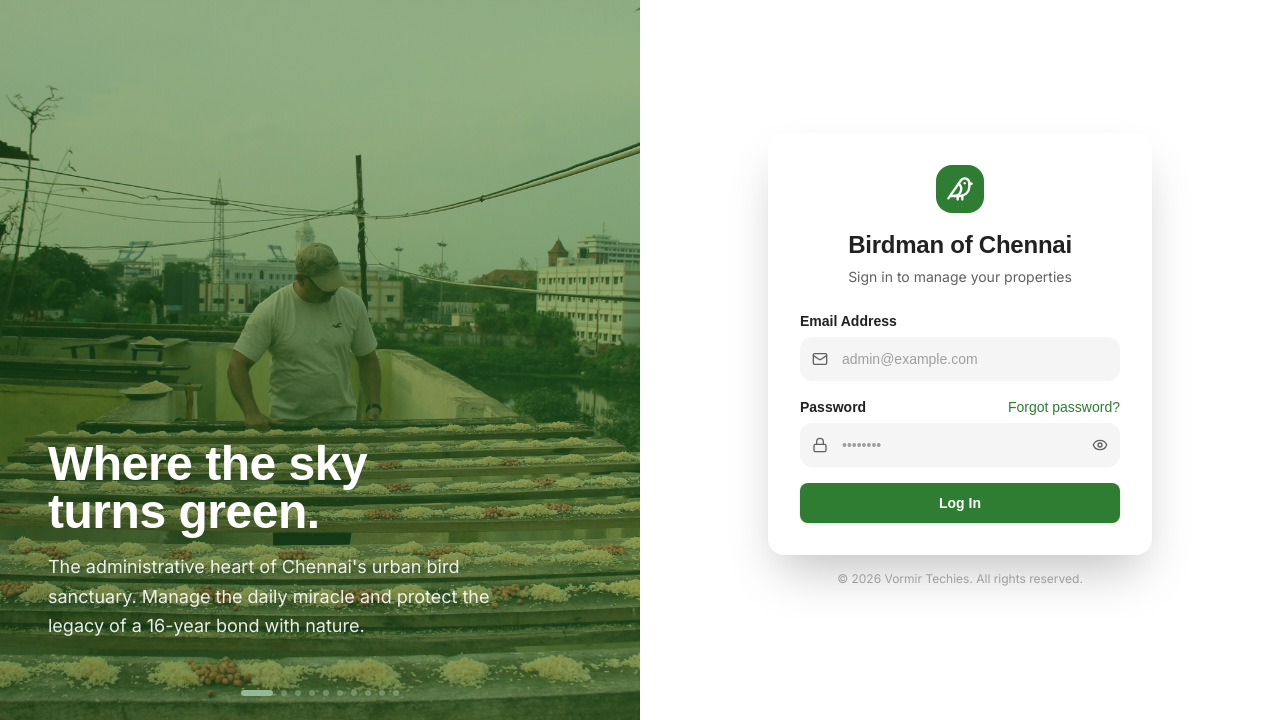
Scenario: Login Page › Forgot Password View › shows success state after sending reset email
The image size is (1280, 720).
Click the button "Forgot password?": (1064, 407) [1008,397,1120,417]
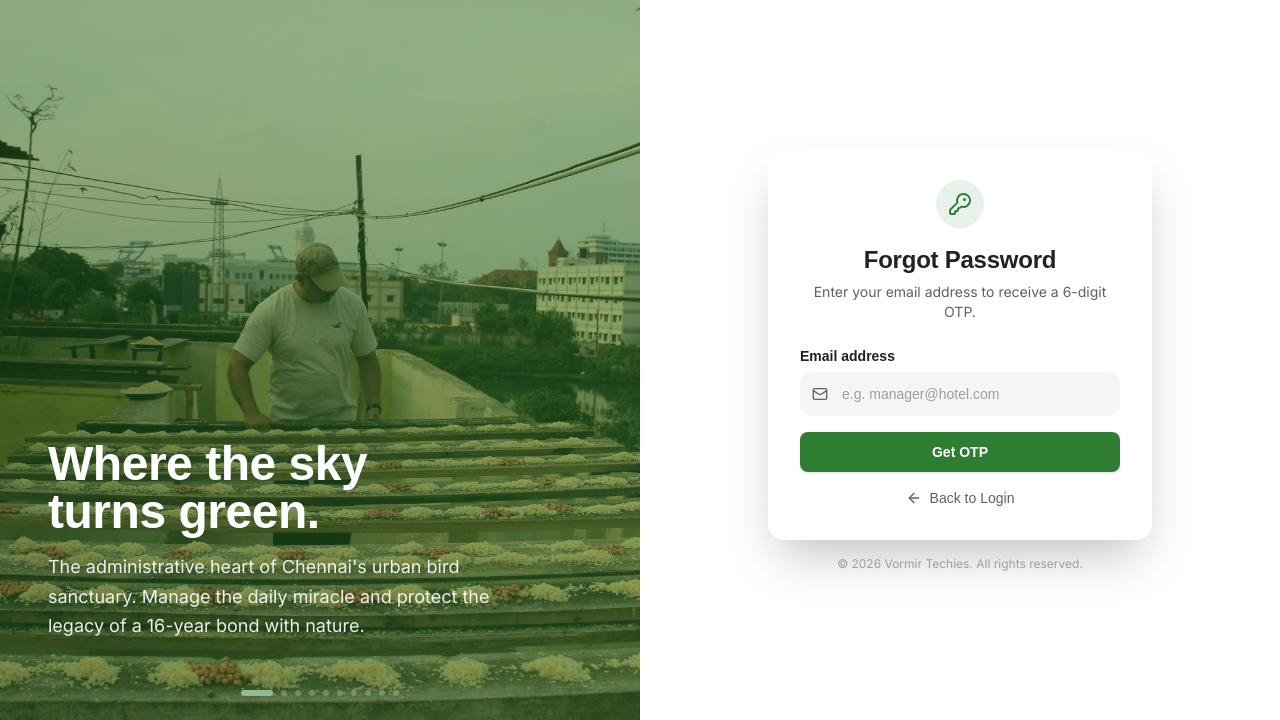
Now the heading "Forgot Password" is shown, box [864,246,1056,273]
In the field labelled "Email address": (960, 394) [800,372,1120,416], type "user@example.com"
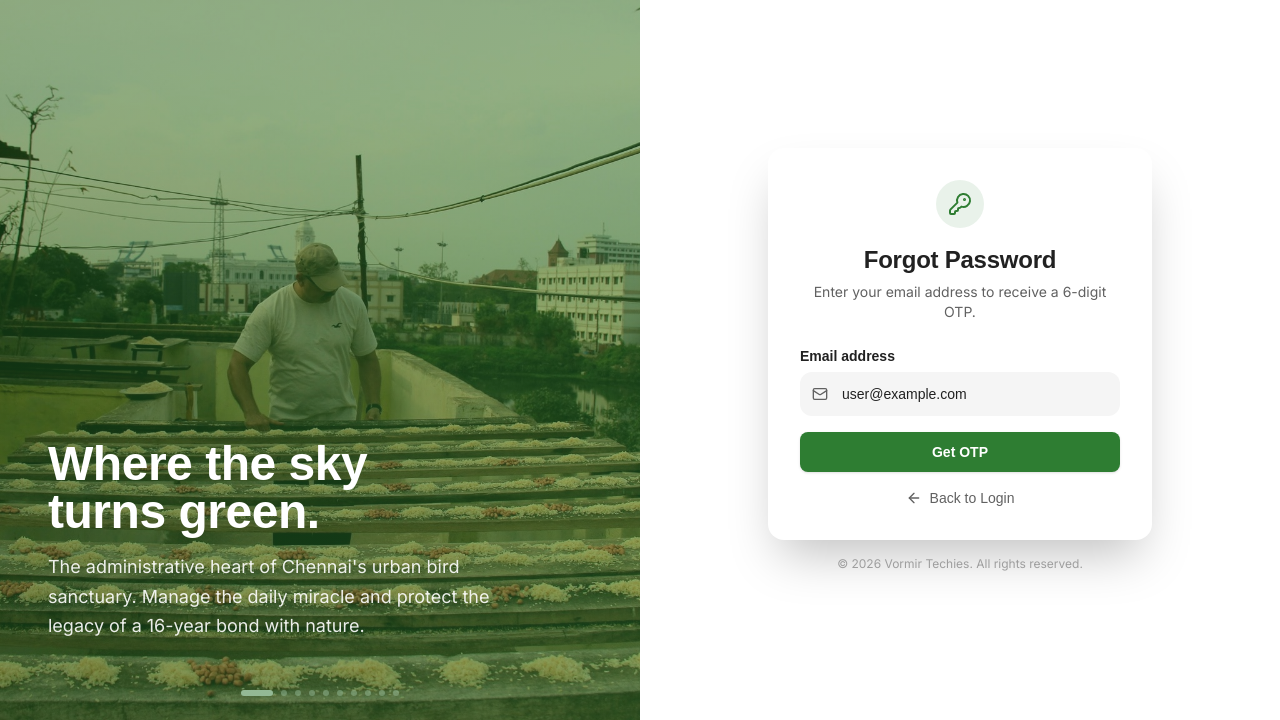
Click the button "Get OTP": (960, 452) [800,432,1120,472]
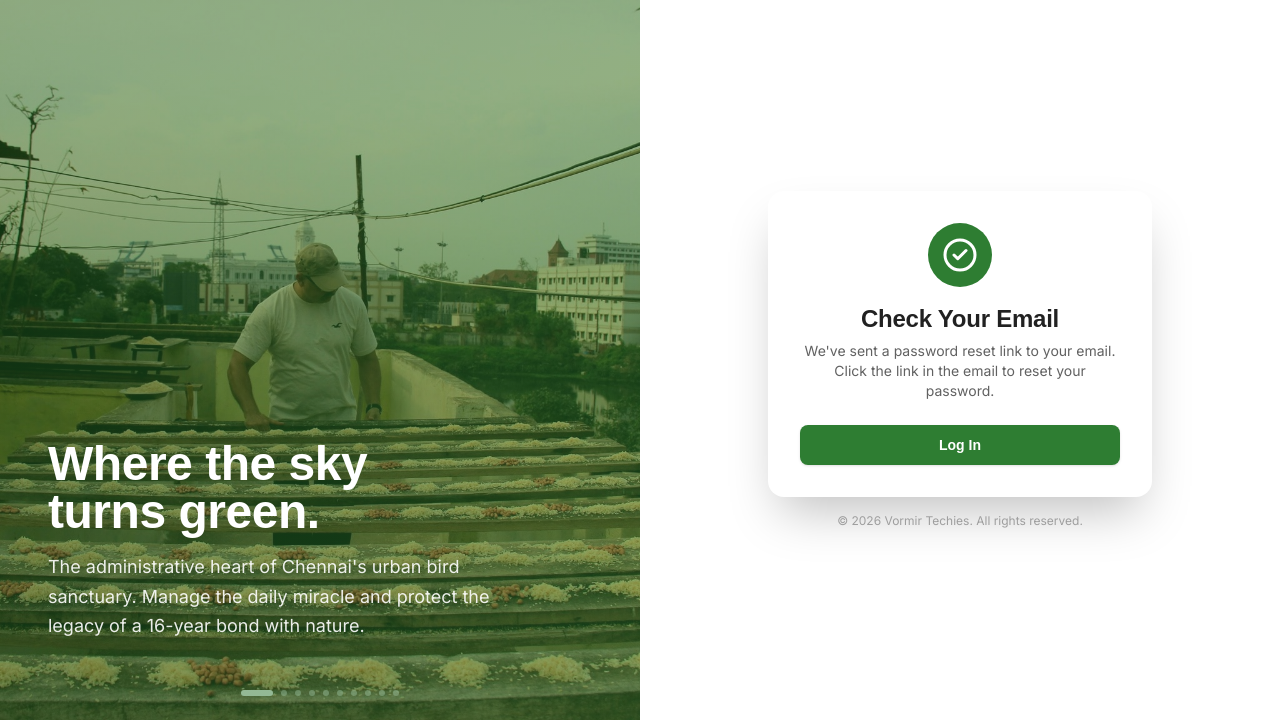
Now the heading "Check Your Email" is shown, box [861,305,1059,332]
